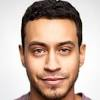face: (27, 39, 82, 100)
